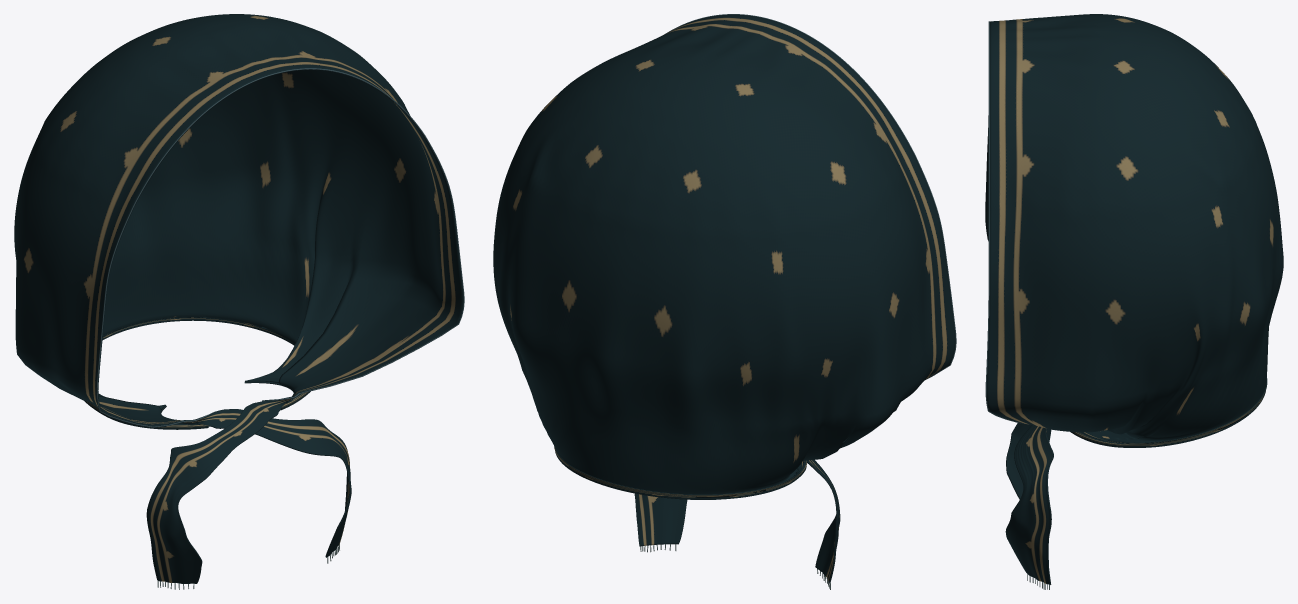
The model's file is Feminine-triangle-volume-pashmina248-headgear.glb.
The picture shows the model from 3 angles, left to right: view 1: azimuth 30°, elevation 25°; view 2: azimuth 150°, elevation 25°; view 3: azimuth 270°, elevation 25°; orthographic projection. The views are drawn at different scales.
Visible parts, largest first — view 1: 226 headgear / Headwear / continuous woven pashmina239, 226 headgear / Headwear / face edge239; view 2: 226 headgear / Headwear / continuous woven pashmina239, 226 headgear / Headwear / face edge239; view 3: 226 headgear / Headwear / continuous woven pashmina239, 226 headgear / Headwear / face edge239.
Boxes of the visible parts, x1,y1,x2,y2 form: 226 headgear / Headwear / continuous woven pashmina239: (14, 14, 463, 583); 226 headgear / Headwear / face edge239: (96, 68, 464, 427); 226 headgear / Headwear / continuous woven pashmina239: (493, 14, 955, 583); 226 headgear / Headwear / face edge239: (664, 14, 956, 379); 226 headgear / Headwear / continuous woven pashmina239: (985, 14, 1283, 584); 226 headgear / Headwear / face edge239: (985, 21, 1028, 424).
Size of the model in its own units: 1.02 by 1.35 by 0.7113.
Materials: 3 (1 with a texture image).
